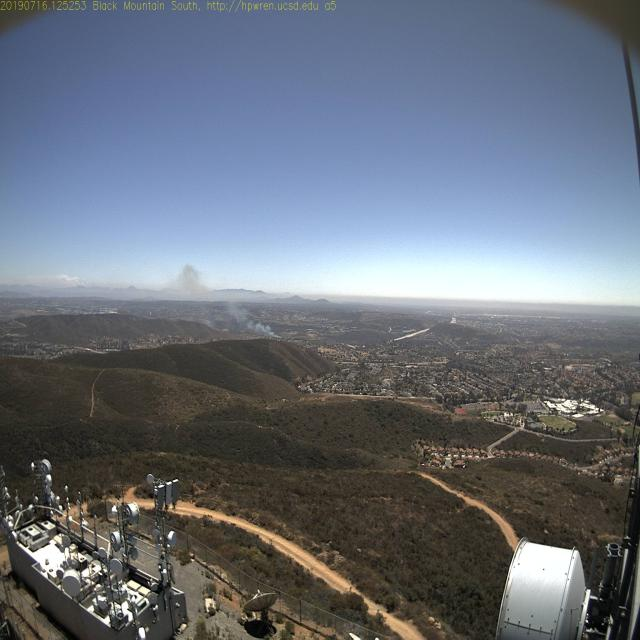smoke: (241, 302, 300, 355)
